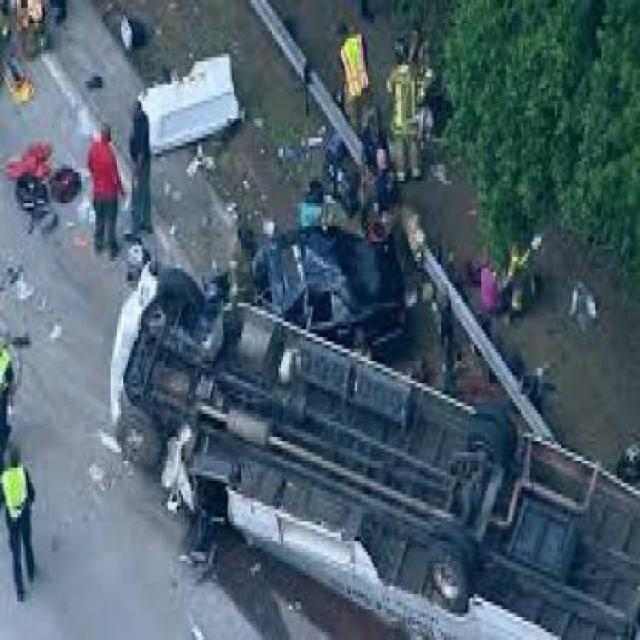accident: (101, 213, 640, 638)
